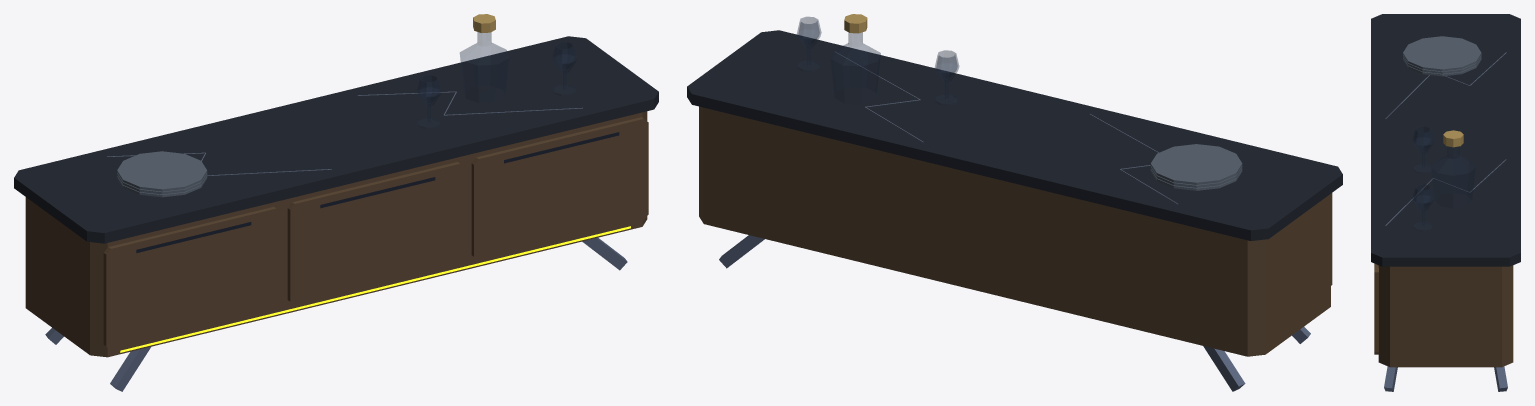
File: res_dining_credenza.glb
The picture shows the model from 3 angles, left to right: view 1: azimuth 30°, elevation 25°; view 2: azimuth 150°, elevation 25°; view 3: azimuth 270°, elevation 25°; orthographic projection. The views are drawn at different scales.
Parts seen in each view (by area): view 1: inset_door, stone_top, crystal_decanter, stacked_porcelain, lower_light, splayed_foot, finger_recess, fine_stone_vein; view 2: inset_door, stone_top, crystal_decanter, stacked_porcelain, splayed_foot, fine_stone_vein; view 3: stone_top, inset_door, crystal_decanter, stacked_porcelain, splayed_foot, fine_stone_vein, decanter_stopper.
Boxes of the visible parts, <box> form: inset_door: <box>25,111,648,357</box>; stone_top: <box>14,36,658,243</box>; crystal_decanter: <box>417,32,576,128</box>; stacked_porcelain: <box>117,151,207,197</box>; lower_light: <box>120,226,630,352</box>; splayed_foot: <box>45,238,627,391</box>; finger_recess: <box>136,132,619,253</box>; fine_stone_vein: <box>107,91,582,175</box>; inset_door: <box>699,106,1332,356</box>; stone_top: <box>687,30,1342,240</box>; crystal_decanter: <box>796,17,959,105</box>; stacked_porcelain: <box>1150,144,1242,190</box>; splayed_foot: <box>719,235,1310,391</box>; fine_stone_vein: <box>835,52,1177,204</box>; stone_top: <box>1371,14,1520,266</box>; inset_door: <box>1374,263,1513,367</box>; crystal_decanter: <box>1412,126,1475,231</box>; stacked_porcelain: <box>1403,36,1481,76</box>; splayed_foot: <box>1384,366,1507,391</box>; fine_stone_vein: <box>1385,52,1506,225</box>; decanter_stopper: <box>1443,130,1463,147</box>.
Size of the model in its own units: 3.08 by 1.27 by 0.8.
